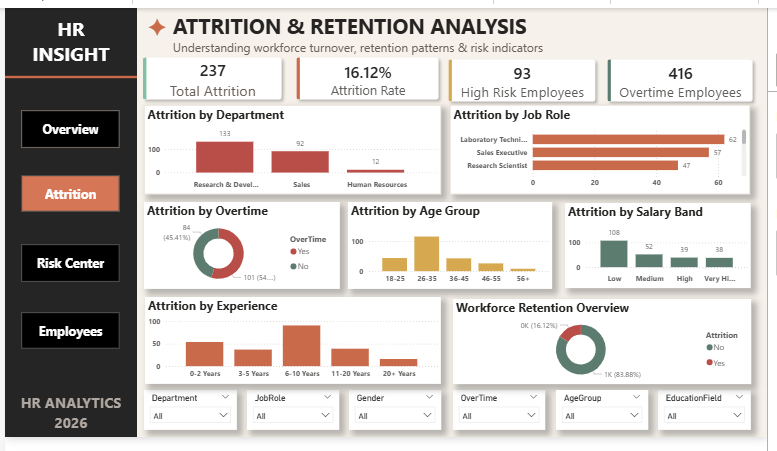

This screenshot's page, from the dashboard's own definition file:
{"tool":"powerbi","page":{"name":"Attrition & Retention Analysis","canvas":[1280,720],"ordinal":1},"visuals":[{"type":"shape","box":[0,0,221.7,720.6],"z":0},{"type":"textbox","title":"ATTRITION & RETENTION ANALYSIS","box":[278.8,6.7,687,102.5],"z":1000},{"type":"textbox","box":[0,6.7,221.7,102.5],"z":2000},{"type":"shape","box":[0,109.2,221.7,13.4],"z":3000},{"type":"actionButton","title":" ▌","box":[26.9,171.3,166.3,63.8],"z":4000},{"type":"actionButton","box":[26.9,280.5,166.3,62.2],"z":5000},{"type":"actionButton","title":"Risk Center","box":[26.9,396.4,166.3,63.8],"z":6000},{"type":"actionButton","title":"Employees","box":[26.9,510.7,166.3,62.2],"z":7000},{"type":"textbox","box":[0,641,221.7,79],"z":8000},{"type":"cardVisual","title":"Total Employees","fields":{"Data":["Employee Data.Overtime Employees"]},"box":[987.7,62.2,292.3,119.3],"z":9000},{"type":"cardVisual","title":"Total Employees","fields":{"Data":["Employee Data.Total Attrition"]},"box":[201.6,58.8,287.2,119.3],"z":10000},{"type":"cardVisual","title":"Total Employees","fields":{"Data":["Employee Data.Attrition Rate"]},"box":[465.3,58.8,287.2,119.3],"z":11000},{"type":"cardVisual","title":"Total Employees","fields":{"Data":["Employee Data.High Risk Employees"]},"box":[721,62.2,295.6,119.3],"z":12000},{"type":"clusteredColumnChart","title":"Attrition by Department","fields":{"Category":["Employee Data.Department"],"Y":["Employee Data.Total Attrition"]},"box":[233.5,162.9,498.9,149.5],"z":13000},{"type":"clusteredBarChart","title":"Attrition by Job Role","fields":{"Y":["Employee Data.Total Attrition"],"Category":["Employee Data.JobRole"]},"box":[747.5,162.9,503.9,149.5],"z":14000},{"type":"donutChart","title":"Attrition by Overtime","fields":{"Category":["Employee Data.OverTime"],"Y":["Employee Data.Total Attrition"]},"box":[233.5,325.9,329.2,146.1],"z":15000},{"type":"clusteredColumnChart","title":"Attrition by Age Group","fields":{"Category":["Employee Data.AgeGroup"],"Y":["Employee Data.Total Attrition"]},"box":[576.2,325.9,342.7,146.1],"z":16000},{"type":"clusteredColumnChart","title":"Attrition by Salary Band","fields":{"Category":["Employee Data.SalaryBand"],"Y":["Employee Data.Total Attrition"]},"box":[940.7,327.6,312.4,142.8],"z":17000},{"type":"slicer","fields":{"Values":["Employee Data.Department"]},"box":[233.5,641.7,156,67.2],"z":18000},{"type":"slicer","fields":{"Values":["Employee Data.JobRole"]},"box":[406.5,641.7,154.5,67.2],"z":19000},{"type":"slicer","fields":{"Values":["Employee Data.Gender"]},"box":[577.8,641.7,154.5,67.2],"z":20000},{"type":"slicer","fields":{"Values":["Employee Data.OverTime"]},"box":[752.5,641.7,154.5,67.2],"z":21000},{"type":"slicer","fields":{"Values":["Employee Data.EducationField"]},"box":[1096.9,641.7,156.2,67.2],"z":22000},{"type":"textbox","box":[233.5,0,65.5,70.6],"z":23000},{"type":"donutChart","title":"Workforce Retention Overview","fields":{"Y":["Employee Data.Total Employees"],"Category":["Employee Data.Attrition"]},"box":[752.5,488.8,500.6,142.8],"z":24000},{"type":"slicer","fields":{"Values":["Employee Data.AgeGroup"]},"box":[925.6,641.7,154.5,67.2],"z":25000},{"type":"clusteredColumnChart","title":"Attrition by Experience","fields":{"Y":["Employee Data.Total Attrition"],"Category":["Experience Groups.ExperienceGroup"]},"box":[235.2,485.5,497.2,146.1],"z":26000}]}

Visuals, with their boxes on the page's 1280x720 design canvas (x1, y1, x2, y2). These are canvas units, not pixel positions in the 777x451 screenshot, which may show the page scaled, cropped or inside an application window:
shape: (left=0, top=0, right=222, bottom=721)
"ATTRITION & RETENTION ANALYSIS" textbox: (left=279, top=7, right=966, bottom=109)
textbox: (left=0, top=7, right=222, bottom=109)
shape: (left=0, top=109, right=222, bottom=123)
" ▌" actionButton: (left=27, top=171, right=193, bottom=235)
actionButton: (left=27, top=280, right=193, bottom=343)
"Risk Center" actionButton: (left=27, top=396, right=193, bottom=460)
"Employees" actionButton: (left=27, top=511, right=193, bottom=573)
textbox: (left=0, top=641, right=222, bottom=720)
"Total Employees" cardVisual: (left=988, top=62, right=1280, bottom=182)
"Total Employees" cardVisual: (left=202, top=59, right=489, bottom=178)
"Total Employees" cardVisual: (left=465, top=59, right=752, bottom=178)
"Total Employees" cardVisual: (left=721, top=62, right=1017, bottom=182)
"Attrition by Department" clusteredColumnChart: (left=234, top=163, right=732, bottom=312)
"Attrition by Job Role" clusteredBarChart: (left=748, top=163, right=1251, bottom=312)
"Attrition by Overtime" donutChart: (left=234, top=326, right=563, bottom=472)
"Attrition by Age Group" clusteredColumnChart: (left=576, top=326, right=919, bottom=472)
"Attrition by Salary Band" clusteredColumnChart: (left=941, top=328, right=1253, bottom=470)
slicer - Employee Data.Department: (left=234, top=642, right=390, bottom=709)
slicer - Employee Data.JobRole: (left=406, top=642, right=561, bottom=709)
slicer - Employee Data.Gender: (left=578, top=642, right=732, bottom=709)
slicer - Employee Data.OverTime: (left=752, top=642, right=907, bottom=709)
slicer - Employee Data.EducationField: (left=1097, top=642, right=1253, bottom=709)
textbox: (left=234, top=0, right=299, bottom=71)
"Workforce Retention Overview" donutChart: (left=752, top=489, right=1253, bottom=632)
slicer - Employee Data.AgeGroup: (left=926, top=642, right=1080, bottom=709)
"Attrition by Experience" clusteredColumnChart: (left=235, top=486, right=732, bottom=632)
